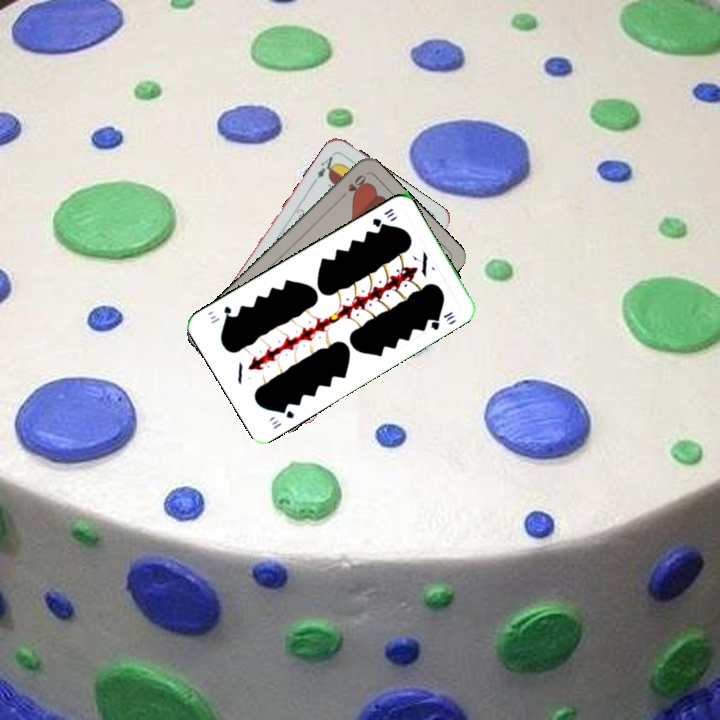EA: (313, 149, 340, 181)
G10: (267, 403, 297, 432), (368, 204, 401, 230)
HO: (336, 171, 368, 202)
